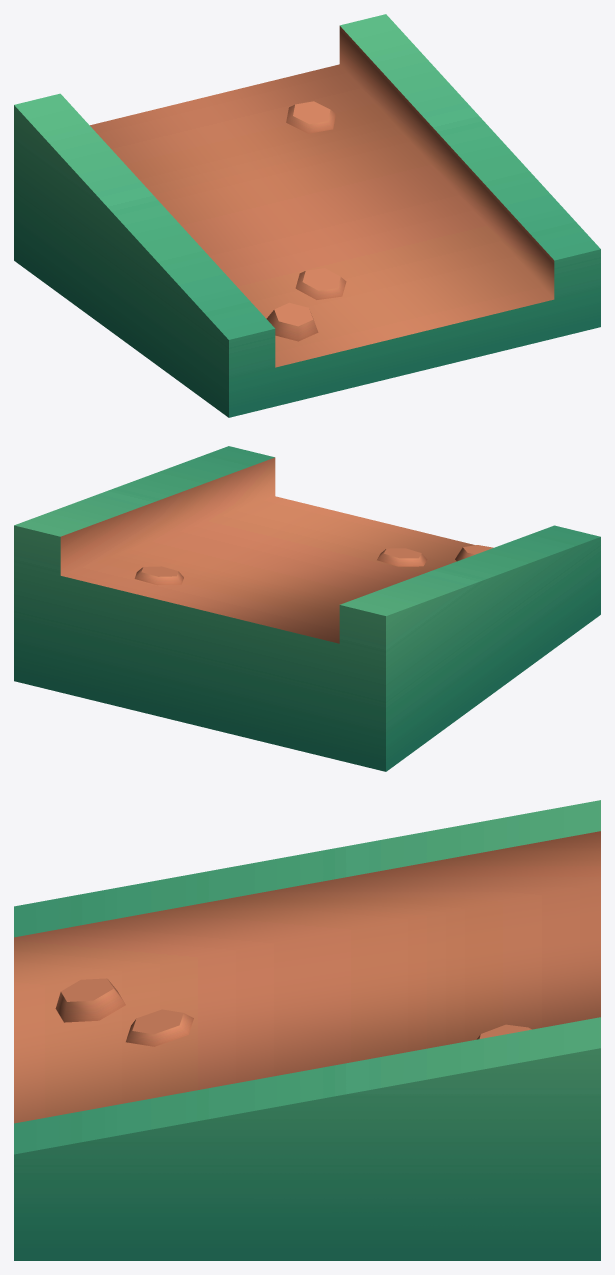
The model's file is kenney-tower-defense-tile-straight-slope.glb.
The picture shows the model from 3 angles, top to bottom: view 1: azimuth 30°, elevation 25°; view 2: azimuth 150°, elevation 25°; view 3: azimuth 270°, elevation 25°; orthographic projection. The views are drawn at different scales.
Parts seen in each view (by area): view 1: tile-straight-slope; view 2: tile-straight-slope; view 3: tile-straight-slope.
Boxes of the visible parts, left/top/right/bottom form: tile-straight-slope: left=14, top=14, right=600, bottom=417; tile-straight-slope: left=14, top=446, right=600, bottom=771; tile-straight-slope: left=14, top=800, right=600, bottom=1260.
Size of the model in its own units: 1 by 0.3999 by 1.
1 material, 1 textured.
